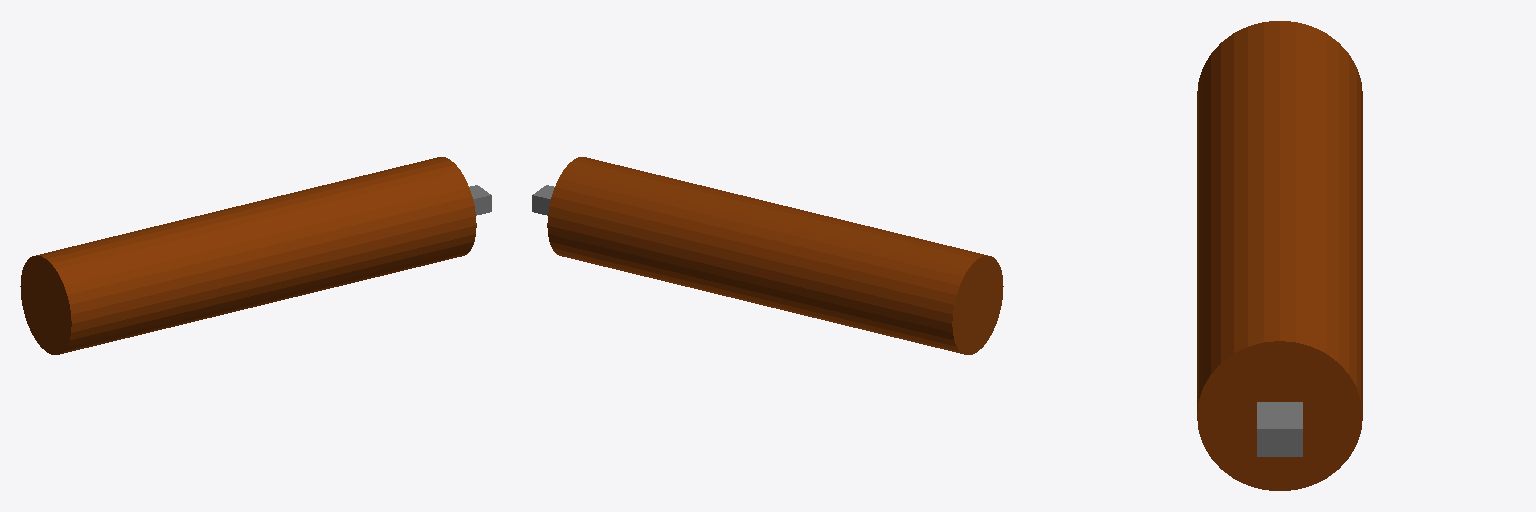
robot.urdf — handle_head:
<?xml version="1.0"?>
<robot name="handle_head">

  <link name="handle_head">
    <!-- Handle -->
    <visual>
              <origin xyz="0 0 0" rpy="0 -1.5707963267948966 0"/>
        <geometry>
          <cylinder length="0.13036629634523694" radius="0.014274972342141711"/>
        </geometry>
        
      <material name="brown">
        <color rgba="0.55 0.27 0.07 1.0"/>
      </material>
    </visual>
    <collision>
              <origin xyz="0 0 0" rpy="0 -1.5707963267948966 0"/>
        <geometry>
          <cylinder length="0.13036629634523694" radius="0.014274972342141711"/>
        </geometry>
        
    </collision>

    <!-- Head -->
    <visual>
              <origin xyz="0.07057353209489432 0 0" rpy="0 0 0"/>
        <geometry>
          <box size="0.010780767844551693 0.007811232020271242 0.0052393205803504175"/>
        </geometry>
        
      <material name="gray">
        <color rgba="0.5 0.5 0.5 1.0"/>
      </material>
    </visual>
    <collision>
              <origin xyz="0.07057353209489432 0 0" rpy="0 0 0"/>
        <geometry>
          <box size="0.010780767844551693 0.007811232020271242 0.0052393205803504175"/>
        </geometry>
        
    </collision>

    <inertial>
      <origin xyz="0.0004038083000491045 0 0" rpy="0 0 0"/>
      <mass value="0.04499947528591522"/>
      <inertia ixx="4.444391671020241e-06" iyy="8.722261201475058e-05" izz="8.722333220046581e-05" ixy="0" ixz="0" iyz="0"/>
    </inertial>
  </link>

</robot>

--- Facts derived from the render (not from the file) ---
The picture shows the robot from 3 angles, left to right: view 1: azimuth 30°, elevation 25°; view 2: azimuth 150°, elevation 25°; view 3: azimuth 270°, elevation 25°; orthographic projection.
Robot: handle_head — 1 links, 0 joints (none); root link handle_head; default pose: all joints at 0.
Visible links, largest first — view 1: handle_head; view 2: handle_head; view 3: handle_head.
Link boxes in pixels (bbox=[...]): handle_head: bbox=[20, 157, 491, 354]; handle_head: bbox=[532, 157, 1003, 354]; handle_head: bbox=[1197, 21, 1362, 490].
Bounding box of the posed robot: 0.1411 × 0.0285 × 0.0285 m (x, y, z).
Geometry: primitives only (box / cylinder / sphere), no mesh files.
